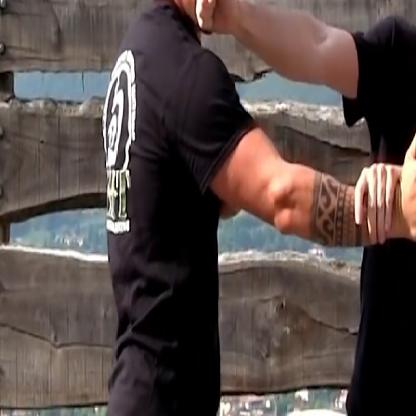knife: (405, 125, 415, 351)
